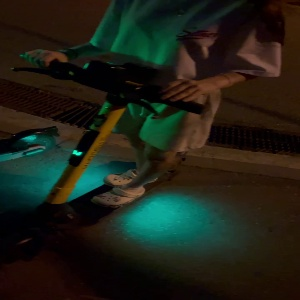human on a scooter: (1, 1, 286, 260)
